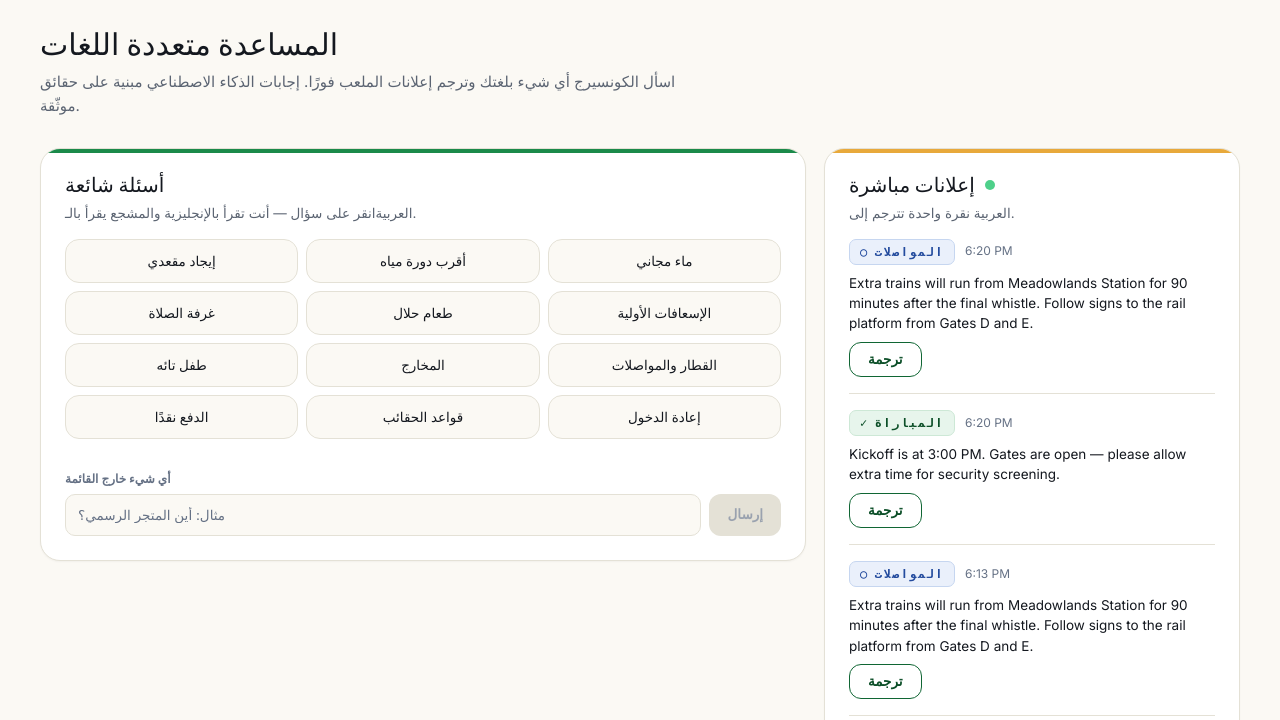
it: MultilingualAssistanceScreen — volunteer mode › answers a tapped common question in English and the fan language side by side
Note: Chip labels follow the Arabic interface language.
Click the button "الإسعافات الأولية" at coordinates (664, 313), box [548,291,781,335]
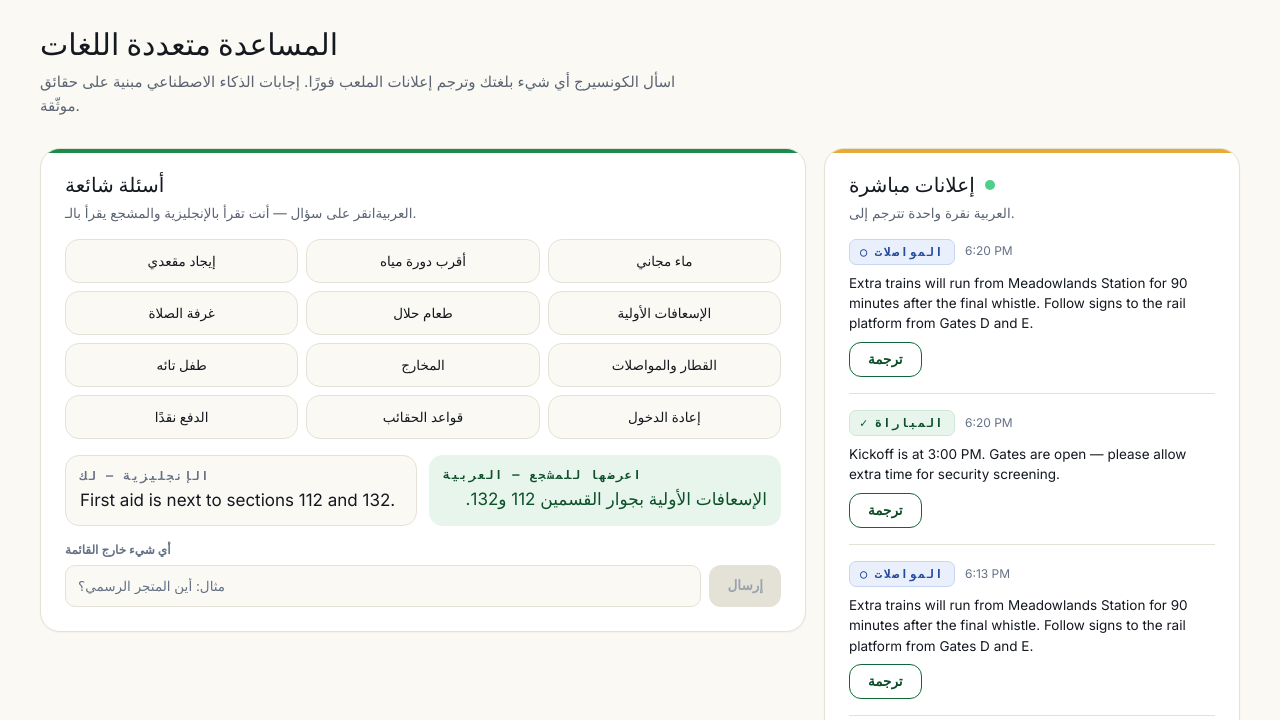
Check: the text "First aid is next to sections 112 and 132." is shown, box [80,490,402,511]
